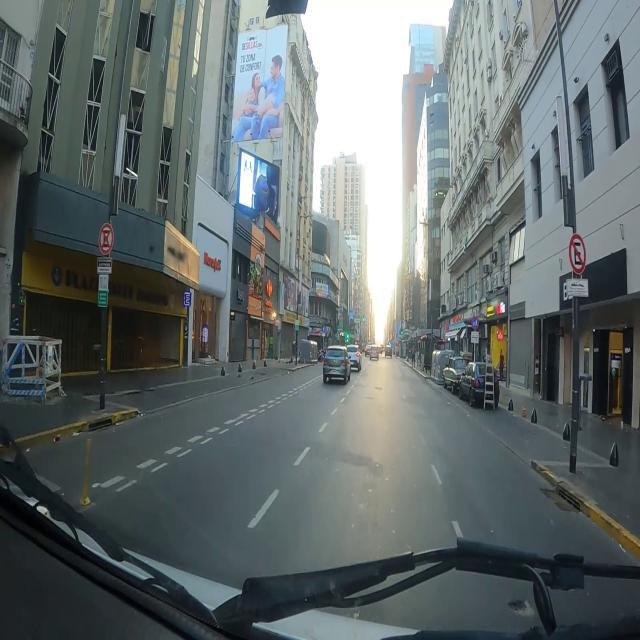car: (459, 363, 485, 407), (323, 345, 350, 383), (443, 356, 466, 392), (347, 345, 361, 371), (370, 345, 378, 360), (385, 345, 392, 357), (365, 345, 370, 356)
